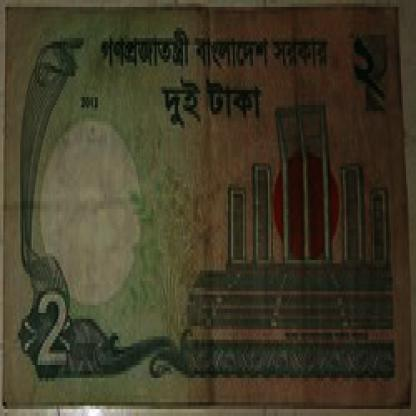two taka: (33, 284, 80, 388), (351, 17, 389, 111)
